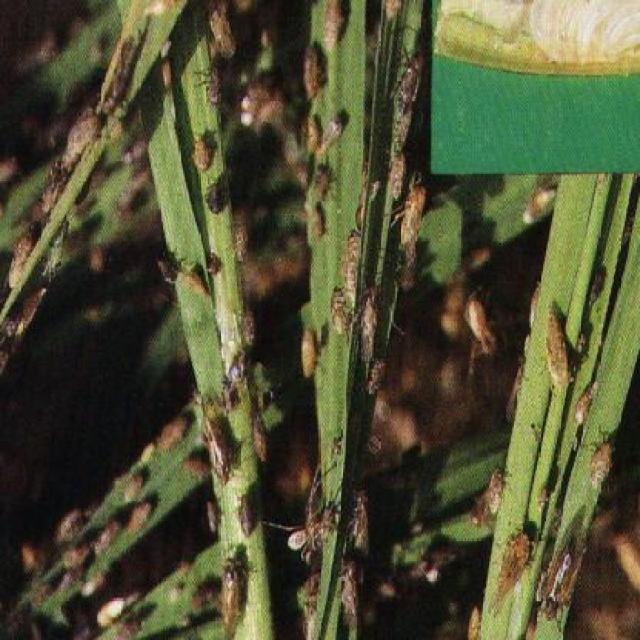brown-planthopper: (490, 532, 535, 613), (542, 542, 584, 626), (59, 111, 104, 174), (544, 311, 573, 389), (7, 288, 47, 342), (198, 423, 231, 486), (220, 555, 242, 640), (8, 233, 38, 292), (206, 4, 237, 59), (400, 191, 428, 251), (397, 53, 423, 115), (521, 185, 559, 223), (338, 565, 360, 627), (324, 0, 349, 52), (296, 322, 318, 378), (95, 596, 134, 626), (328, 283, 348, 339), (302, 42, 322, 98), (360, 288, 375, 362), (55, 506, 87, 540), (592, 436, 612, 490), (322, 118, 349, 158), (189, 573, 216, 613), (159, 418, 192, 450), (572, 385, 596, 429), (188, 132, 214, 172), (39, 172, 64, 213), (125, 464, 154, 498), (249, 417, 269, 465), (232, 213, 250, 264), (179, 267, 207, 299), (487, 463, 504, 515), (352, 498, 368, 553), (131, 503, 158, 534), (237, 495, 255, 537), (304, 114, 321, 154), (156, 250, 176, 284), (237, 308, 254, 346), (310, 205, 328, 240), (98, 524, 124, 548), (312, 170, 333, 199), (204, 71, 221, 106), (390, 155, 402, 199), (208, 180, 223, 214), (206, 504, 220, 534)
